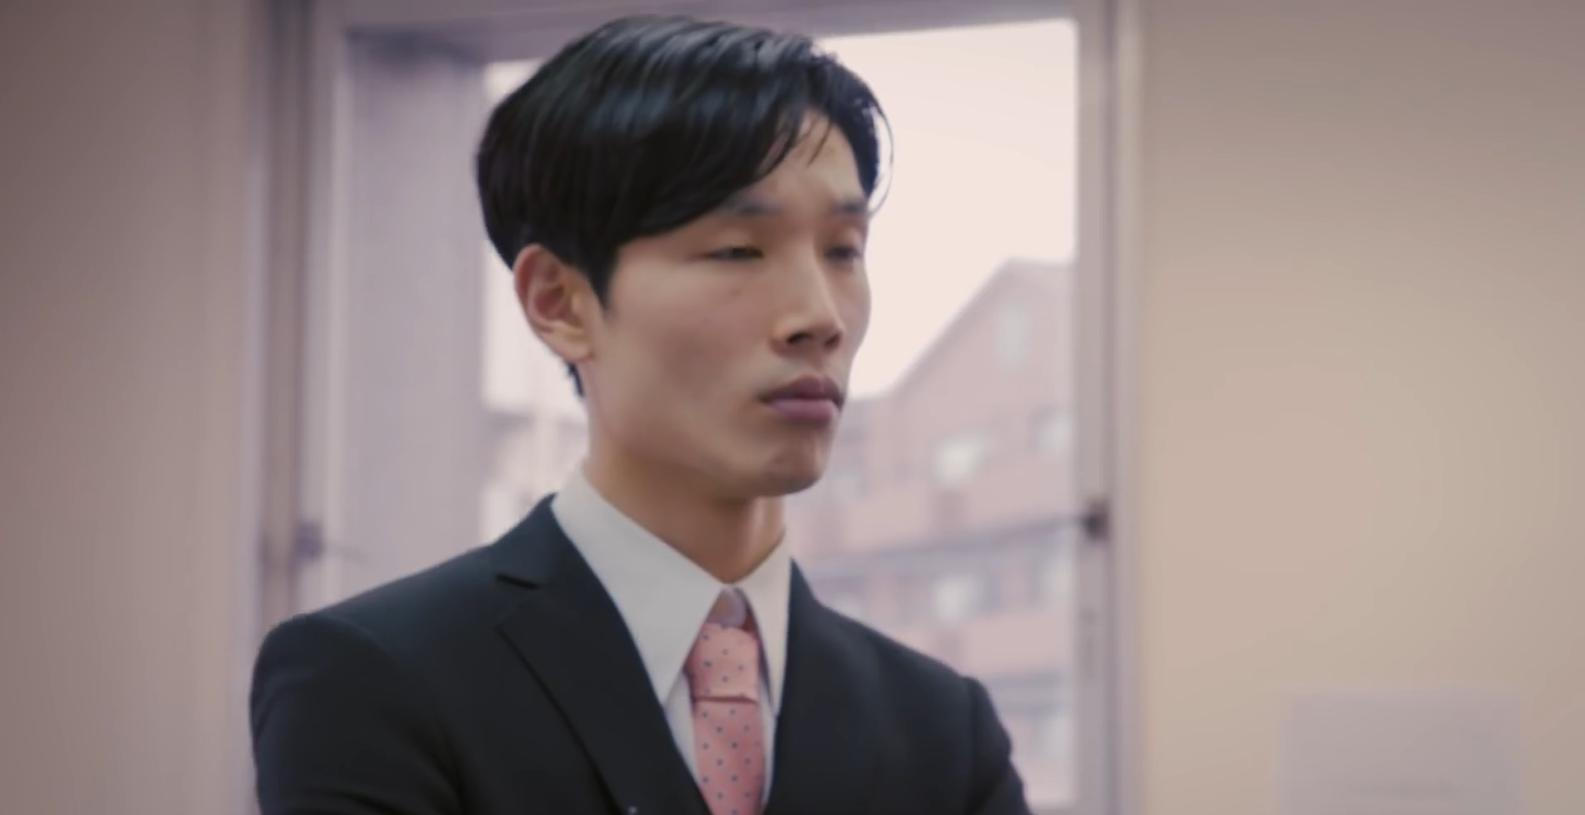without_mask: (670, 193, 842, 460)
